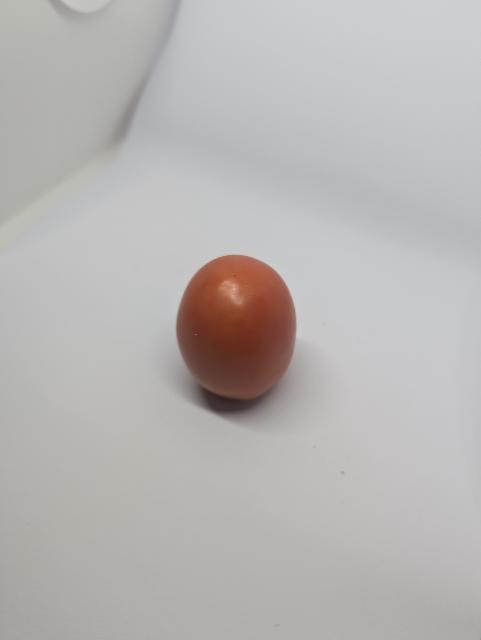red: (156, 246, 317, 405)
